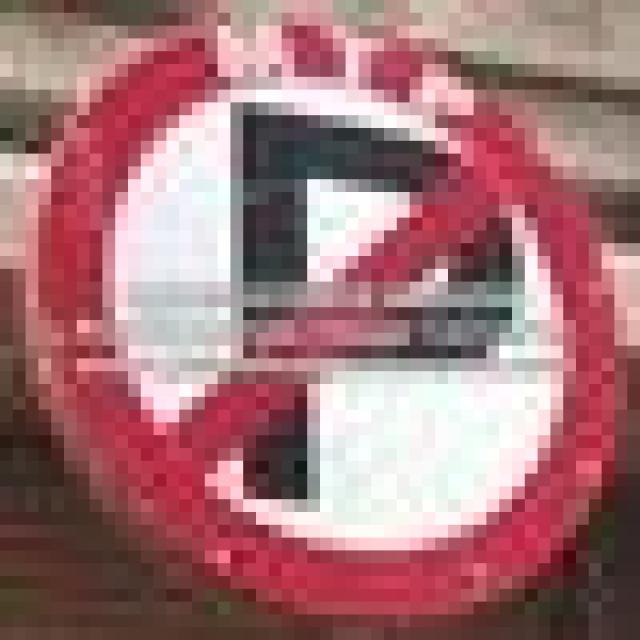do_not_enter: (26, 0, 614, 627)
